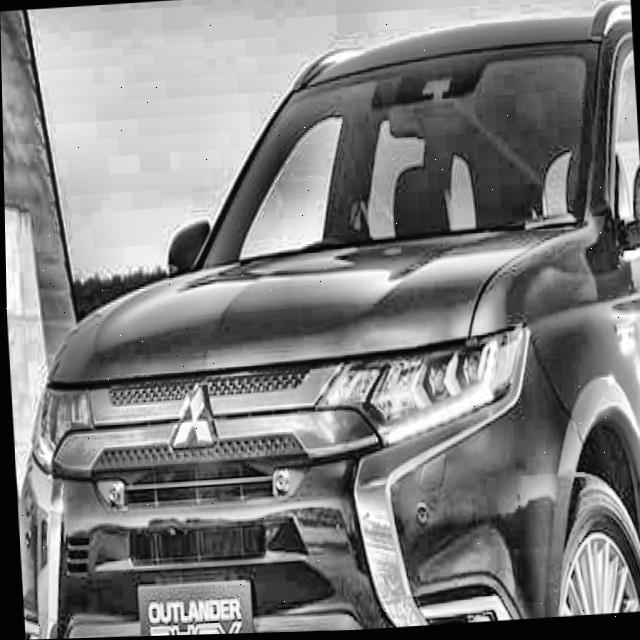light_vehicle: (0, 6, 640, 640)
